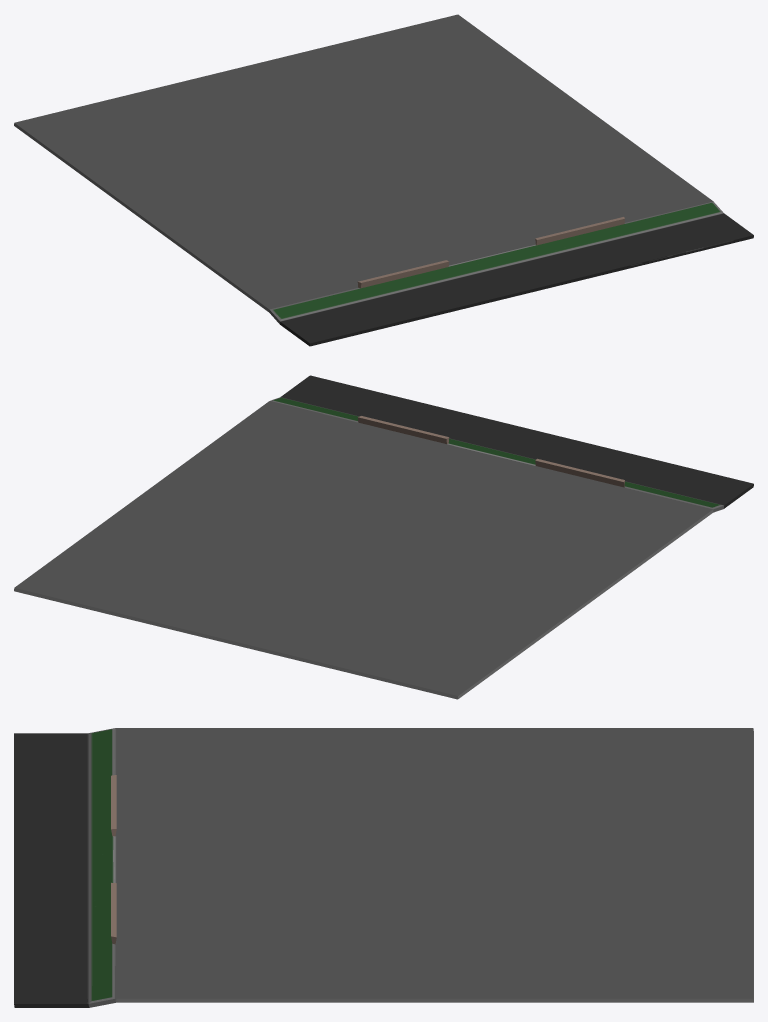
Rendered from Terreno.fbx.
3 views of the same model, one above another, from view 1: azimuth 30°, elevation 25°; view 2: azimuth 150°, elevation 25°; view 3: azimuth 270°, elevation 25° (orthographic). The views are drawn at different scales.
Parts seen in each view (by area): view 1: Terreno; view 2: Terreno; view 3: Terreno.
Part boxes in pixels (left/top/right/bottom): Terreno: left=14, top=14, right=753, bottom=346; Terreno: left=14, top=375, right=753, bottom=699; Terreno: left=14, top=728, right=753, bottom=1007.
Size of the model in its own units: 2991 by 85.85 by 3456.
Materials: 1 (1 with a texture image).
